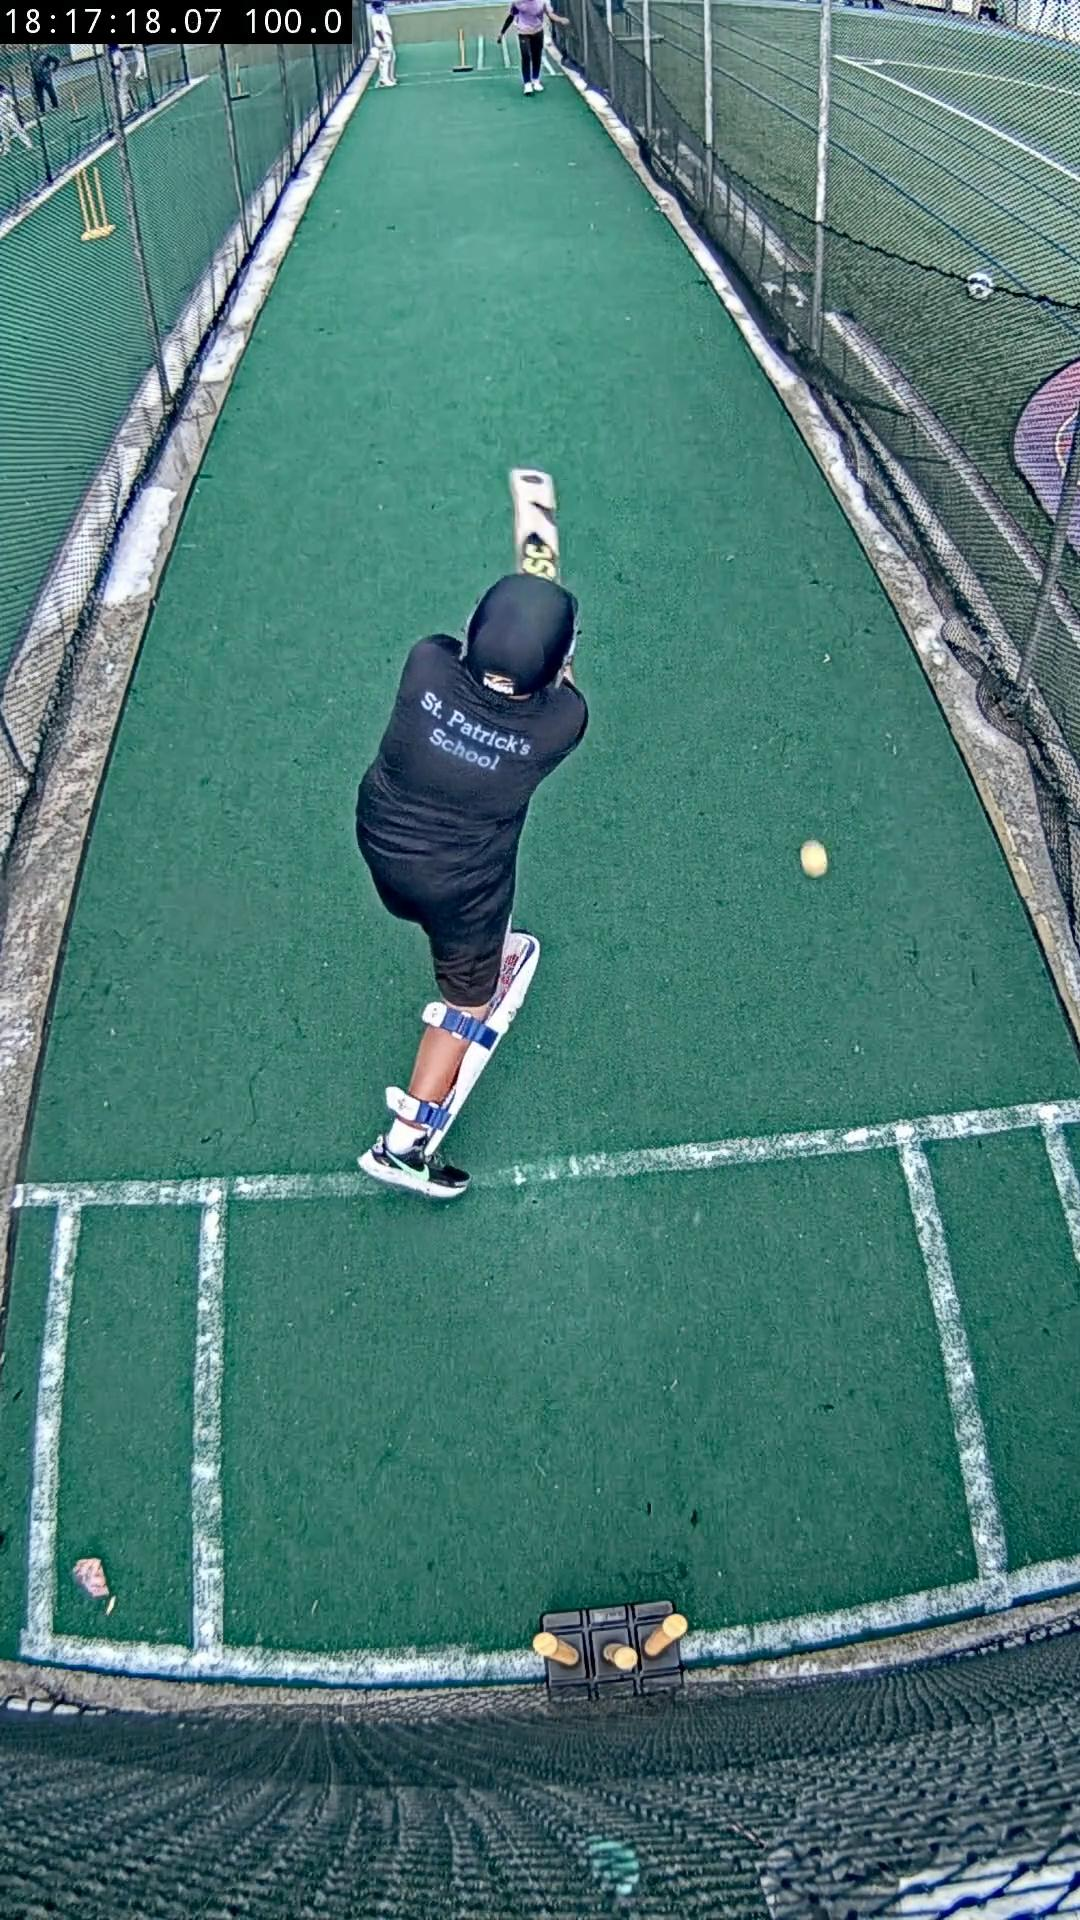ball: (799, 840, 828, 877)
bat: (510, 468, 559, 582)
helmet: (465, 574, 578, 698)
pads: (427, 930, 541, 1153)
stumps: (533, 1601, 686, 1698)
